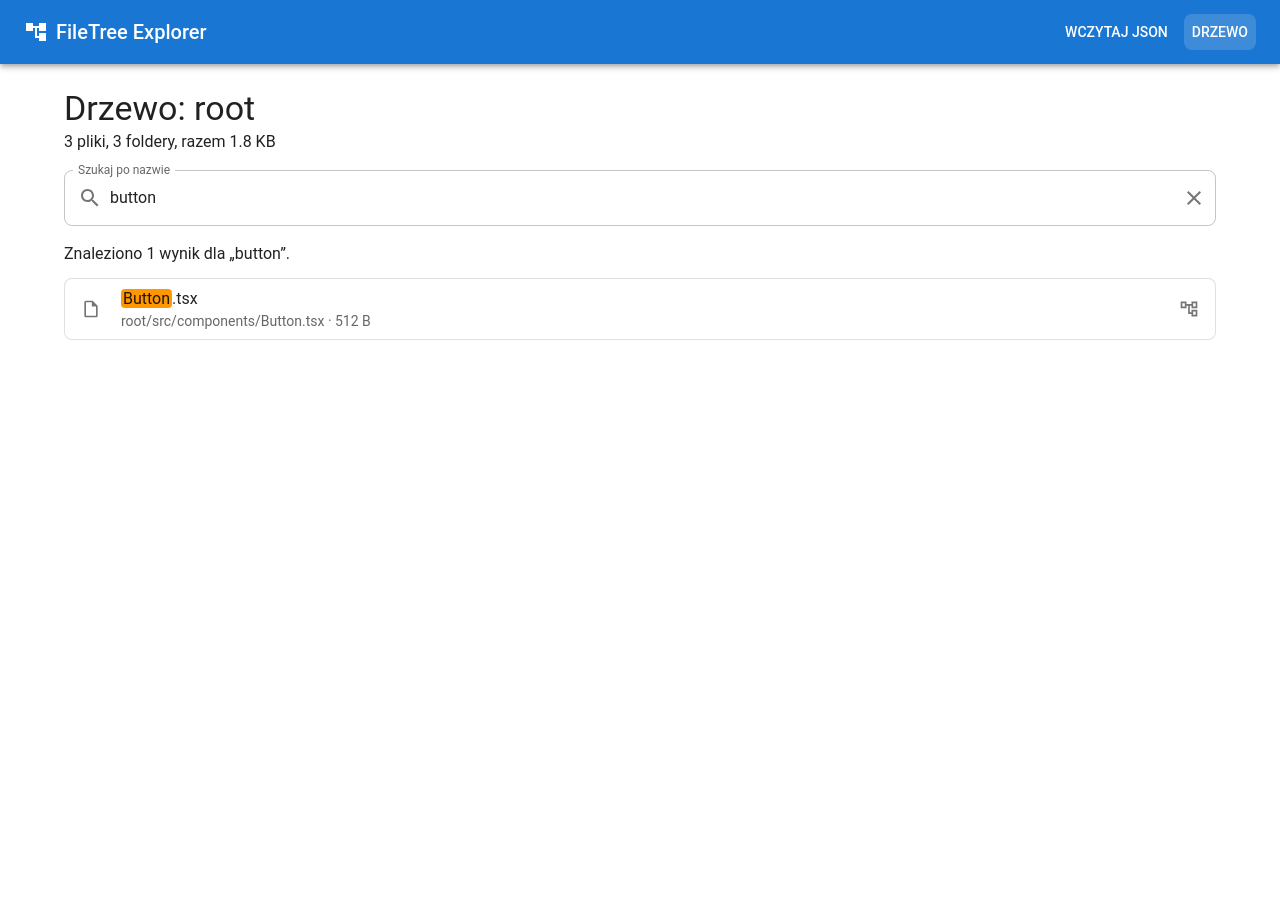
search › clears the search with the clear button and shows the tree again
This screenshot has width=1280, height=900.
What coordinates should you click on to do the following:
click the button named "Wyczyść wyszukiwanie"
I would click on:
 (1194, 198)
Its box is x1=1174 y1=178 x2=1214 y2=218.
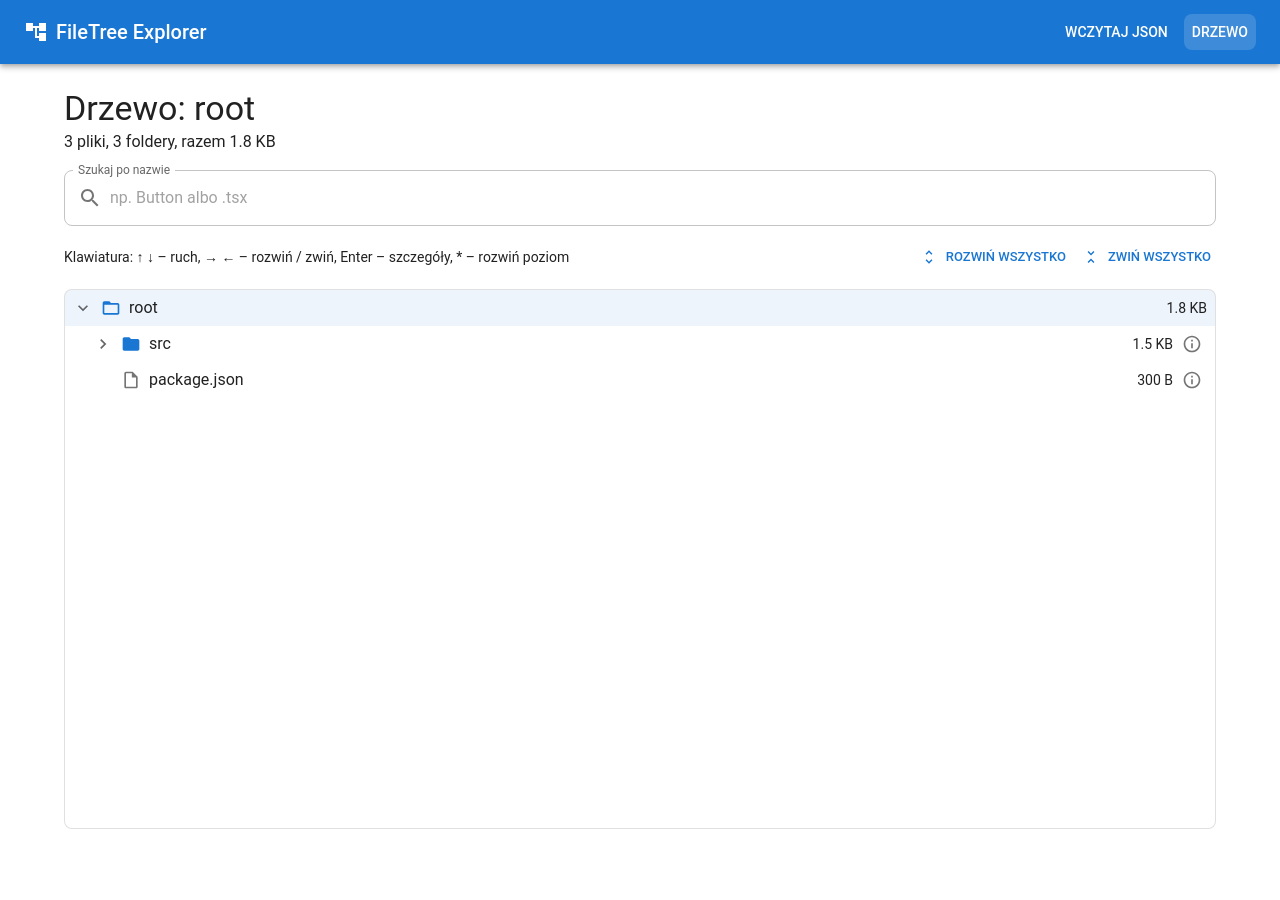
Expected: the search field labelled "Szukaj po nazwie" is empty, x1=110 y1=170 x2=1216 y2=226
Expected: the element showing "root 1.8 KB src 1.5 KB package.json 300 B" is shown, x1=65 y1=290 x2=1215 y2=390
